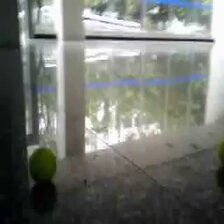tennis: (28, 146, 57, 184)
